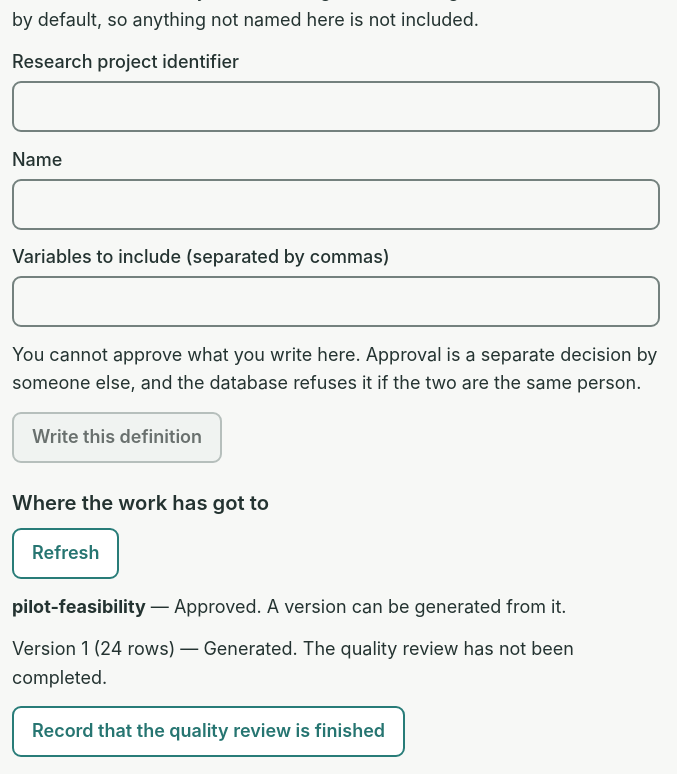
preparing a dataset › completing the quality review records a person’s statement and does not lock anything
(page scrolled)
Click the button "Record that the quality review is finished": (208, 732) [12,706,405,757]
(page scrolled)
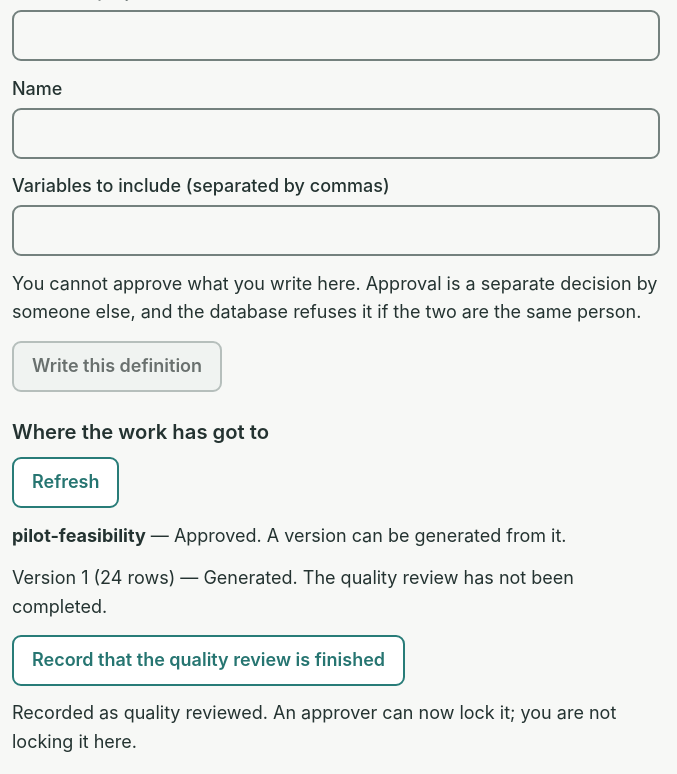
Expected: the message shows "you are not locking it here", [12,702,616,752]
